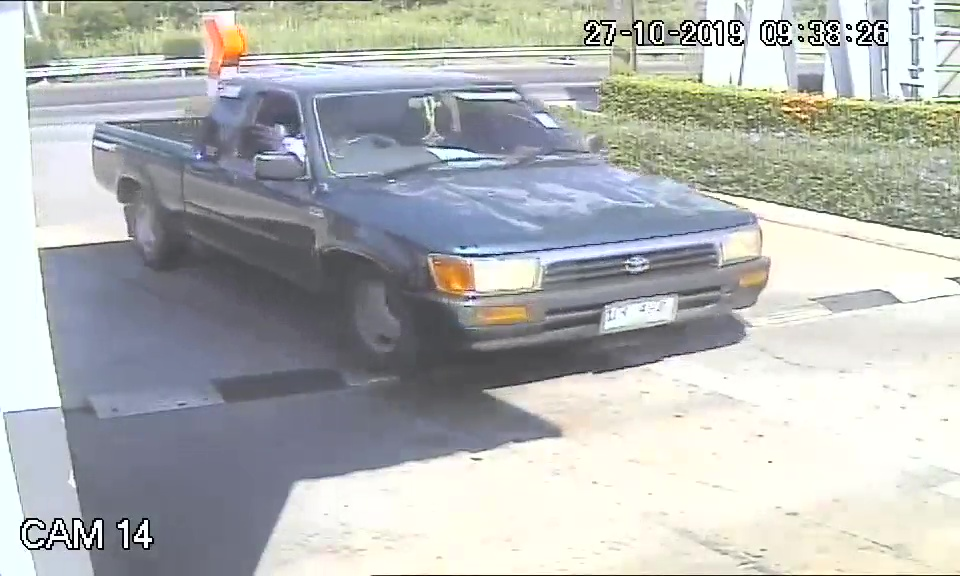pickup: (90, 63, 774, 379)
